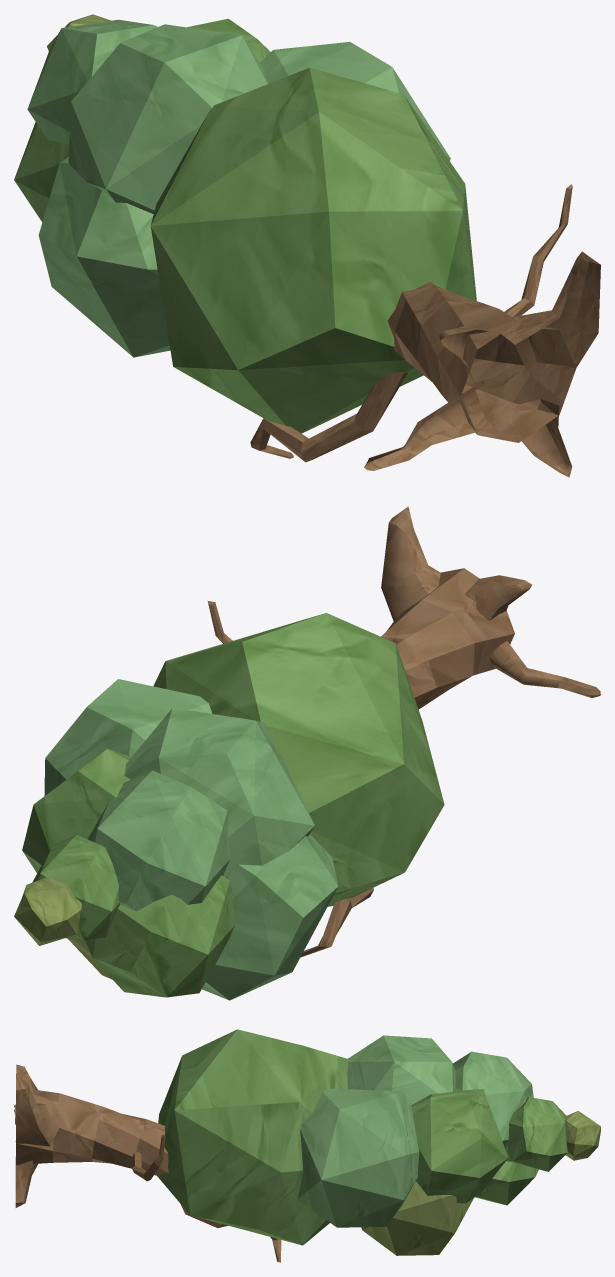
File: chunkyTreeTall.FBX
The picture shows the model from 3 angles, top to bottom: view 1: azimuth 30°, elevation 25°; view 2: azimuth 150°, elevation 25°; view 3: azimuth 270°, elevation 25°; orthographic projection. The views are drawn at different scales.
Parts seen in each view (by area): view 1: Cylinder009; view 2: Cylinder009; view 3: Cylinder009.
Part boxes in pixels (x1,y1,x2,y2): Cylinder009: (14, 14, 600, 477); Cylinder009: (14, 506, 600, 1000); Cylinder009: (14, 1029, 600, 1262).
Size of the model in its own units: 216 by 231 by 531.
Materials: 4 (4 with a texture image).
